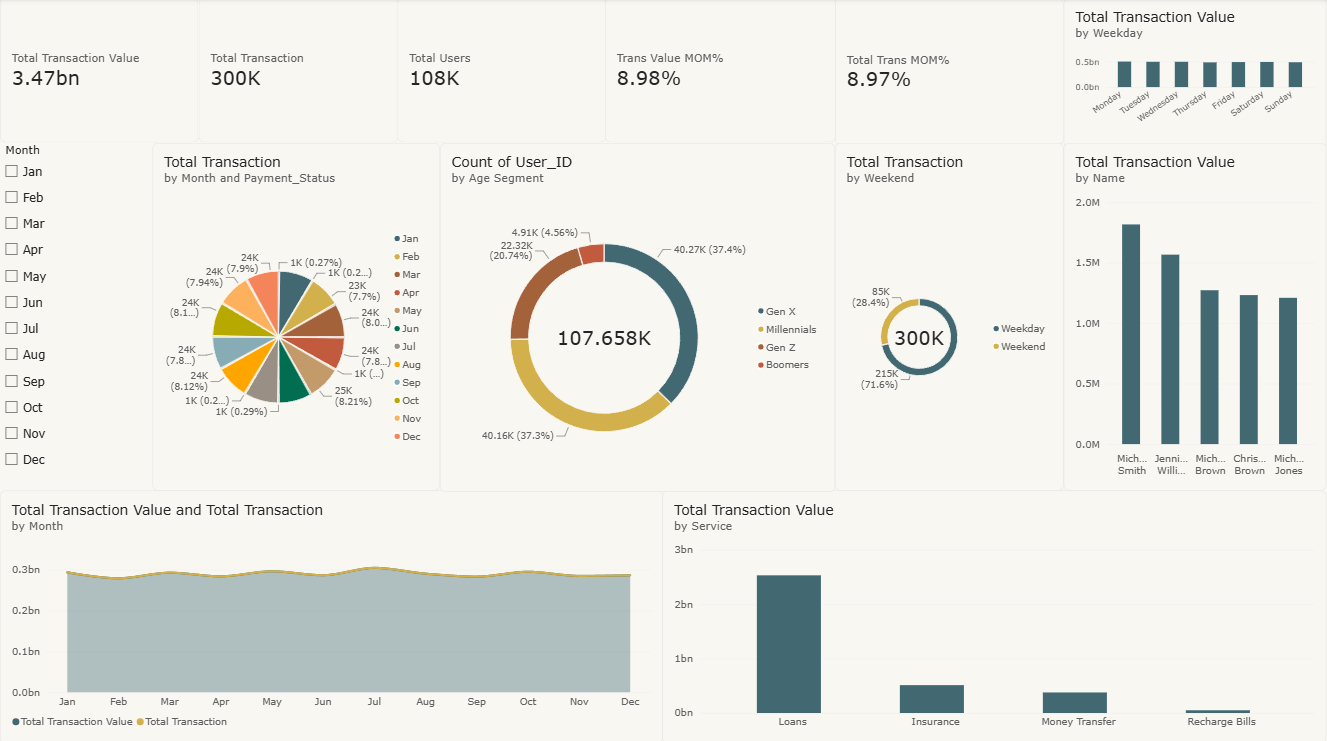

The page's visual inventory and layout, read from the dashboard file:
{"tool":"powerbi","page":{"name":"Page 1","canvas":[1920,1080],"ordinal":0},"visuals":[{"type":"cardVisual","fields":{"Data":["Measures (2).Total Transaction Value"]},"box":[0,0,287.7,209.9],"z":0},{"type":"cardVisual","fields":{"Data":["Measures (2).Total Transaction"]},"box":[287.7,0,289.5,209.9],"z":1},{"type":"cardVisual","fields":{"Data":["Measures (2).Total Users"]},"box":[575.5,0,302.2,209.9],"z":2},{"type":"slicer","fields":{"Values":["Date_Table.Month"]},"box":[0,209.9,220.8,503.1],"z":3},{"type":"cardVisual","fields":{"Data":["Measures (2).Total Trans MOM%"]},"box":[1208.9,0,331.2,213.5],"z":4},{"type":"cardVisual","fields":{"Data":["Measures (2).Trans Value MOM%"]},"box":[875.9,0,334.8,209.9],"z":5},{"type":"stackedAreaChart","fields":{"Category":["Date_Table.Month"],"Y":["Measures (2).Total Transaction Value","Measures (2).Total Transaction"]},"box":[0,713,959.2,366.4],"z":6},{"type":"columnChart","fields":{"Category":["All_Transactions.Service"],"Y":["Measures (2).Total Transaction Value"]},"box":[959.2,713,961.2,366.4],"z":7},{"type":"pieChart","fields":{"Category":["Date_Table.Month"],"Series":["All_Transactions.Payment_Status"],"Y":["Measures (2).Total Transaction"]},"box":[220.8,209.9,416.2,503.1],"z":8},{"type":"donutChart","fields":{"Category":["All_Users.Age Segment"],"Y":["CountNonNull(All_Users.User_ID)"]},"box":[637,209.9,571.9,504.9],"z":9},{"type":"donutChart","fields":{"Category":["Date_Table.Weekend"],"Y":["Measures (2).Total Transaction"]},"box":[1208.9,209.9,331.2,503.1],"z":10},{"type":"columnChart","fields":{"Category":["Date_Table.Weekday"],"Y":["Measures (2).Total Transaction Value"]},"box":[1540,0,380,217.2],"z":11},{"type":"columnChart","fields":{"Category":["All_Users.Name"],"Y":["Measures (2).Total Transaction Value"]},"box":[1540,209.9,380,503.1],"z":12}]}

Visuals, with their boxes in screenshot pixels (x1, y1, x2, y2), scaled from the page's 1920x1080 canvas onto the 1327x741 screenshot:
cardVisual - Measures (2).Total Transaction Value: (x1=0, y1=0, x2=199, y2=144)
cardVisual - Measures (2).Total Transaction: (x1=199, y1=0, x2=399, y2=144)
cardVisual - Measures (2).Total Users: (x1=398, y1=0, x2=607, y2=144)
slicer - Date_Table.Month: (x1=0, y1=144, x2=153, y2=489)
cardVisual - Measures (2).Total Trans MOM%: (x1=836, y1=0, x2=1064, y2=146)
cardVisual - Measures (2).Trans Value MOM%: (x1=605, y1=0, x2=837, y2=144)
stackedAreaChart - Date_Table.Month x Measures (2).Total Transaction Value: (x1=0, y1=489, x2=663, y2=740)
columnChart - All_Transactions.Service x Measures (2).Total Transaction Value: (x1=663, y1=489, x2=1326, y2=740)
pieChart - Date_Table.Month x All_Transactions.Payment_Status: (x1=153, y1=144, x2=440, y2=489)
donutChart - All_Users.Age Segment x CountNonNull(All_Users.User_ID): (x1=440, y1=144, x2=836, y2=490)
donutChart - Date_Table.Weekend x Measures (2).Total Transaction: (x1=836, y1=144, x2=1064, y2=489)
columnChart - Date_Table.Weekday x Measures (2).Total Transaction Value: (x1=1064, y1=0, x2=1326, y2=149)
columnChart - All_Users.Name x Measures (2).Total Transaction Value: (x1=1064, y1=144, x2=1326, y2=489)
